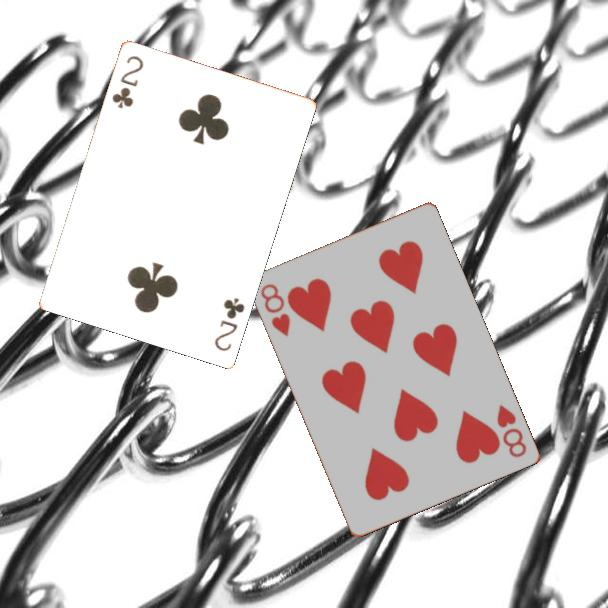c02: (108, 52, 146, 111), (211, 294, 248, 354)
h08: (257, 280, 293, 339), (493, 401, 529, 460)
